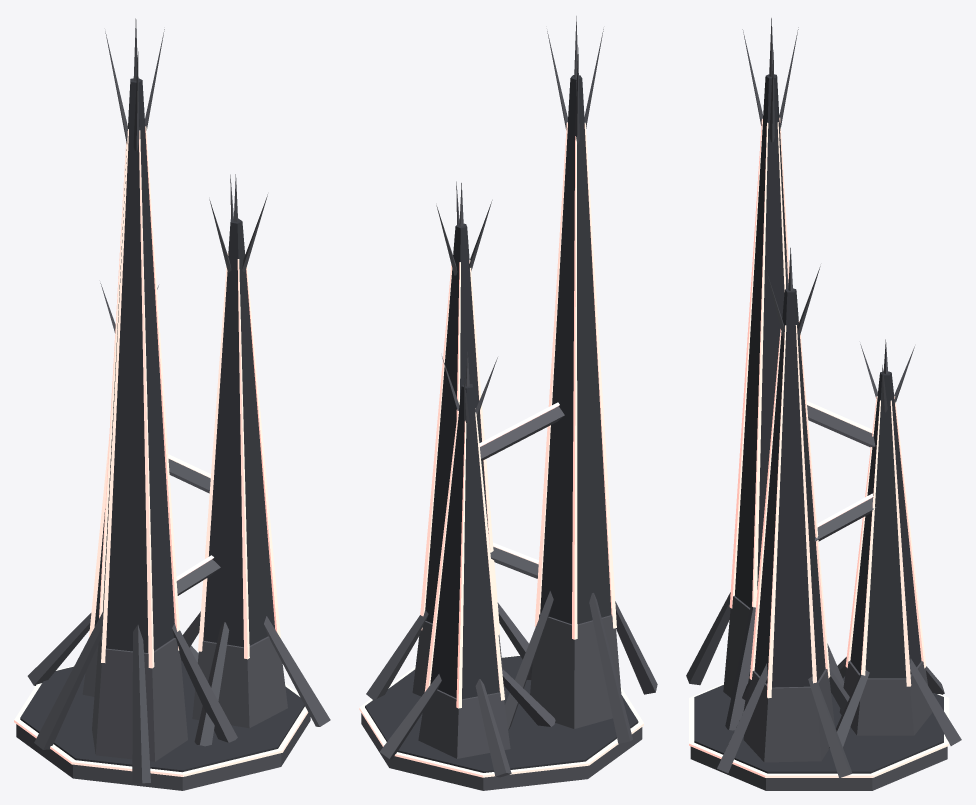
The model's file is zone_high_2.glb.
3 renders of one model, left to right at view 1: azimuth 30°, elevation 25°; view 2: azimuth 150°, elevation 25°; view 3: azimuth 270°, elevation 25°, orthographic. The views are drawn at different scales.
Visible parts, largest first — view 1: zone_high_2; view 2: zone_high_2, detail; view 3: zone_high_2, detail.
Boxes of the visible parts, left/top/right/bottom form: zone_high_2: left=14, top=18, right=330, bottom=790; zone_high_2: left=359, top=16, right=657, bottom=790; detail: left=479, top=402, right=559, bottom=564; zone_high_2: left=686, top=18, right=961, bottom=790; detail: left=806, top=401, right=873, bottom=527.
Bounding box in the file's own units: 29.23 × 80.96 × 28.97.
